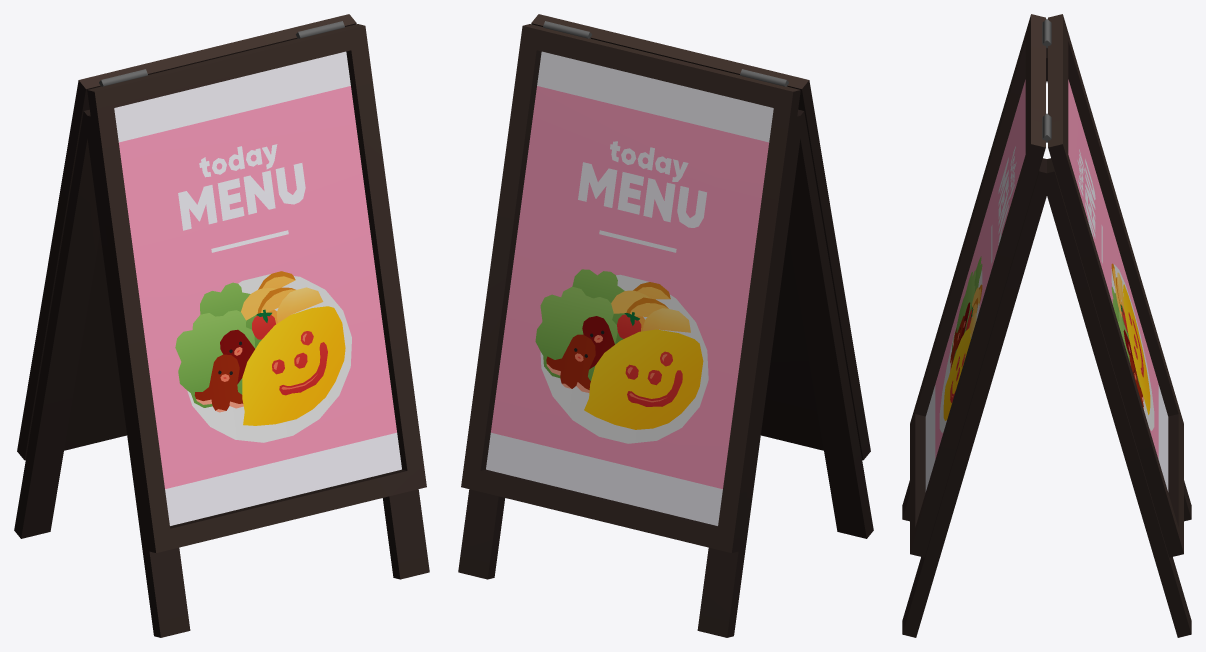
The model's file is CR_caf_Menuboard_001.FBX.
3 views of the same model, side by side, from view 1: azimuth 30°, elevation 25°; view 2: azimuth 150°, elevation 25°; view 3: azimuth 270°, elevation 25° (orthographic).
Visible parts, largest first — view 1: CR_caf_Menuboard_001; view 2: CR_caf_Menuboard_001; view 3: CR_caf_Menuboard_001.
Boxes of the visible parts, box(x1,y1,x2,y2) form: CR_caf_Menuboard_001: box(14, 14, 429, 637); CR_caf_Menuboard_001: box(458, 14, 873, 637); CR_caf_Menuboard_001: box(902, 14, 1191, 637).
Size of the model in its own units: 33.49 by 59.61 by 31.45.
